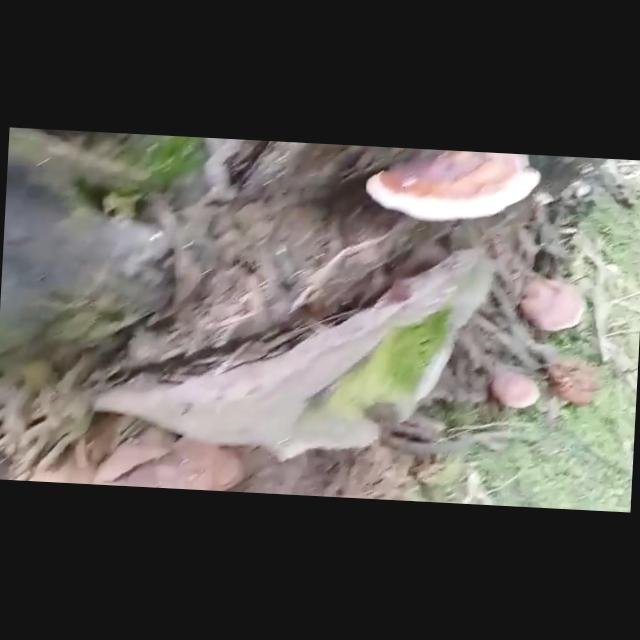ganoderma: (363, 149, 546, 231), (516, 276, 588, 337), (488, 367, 543, 413)
